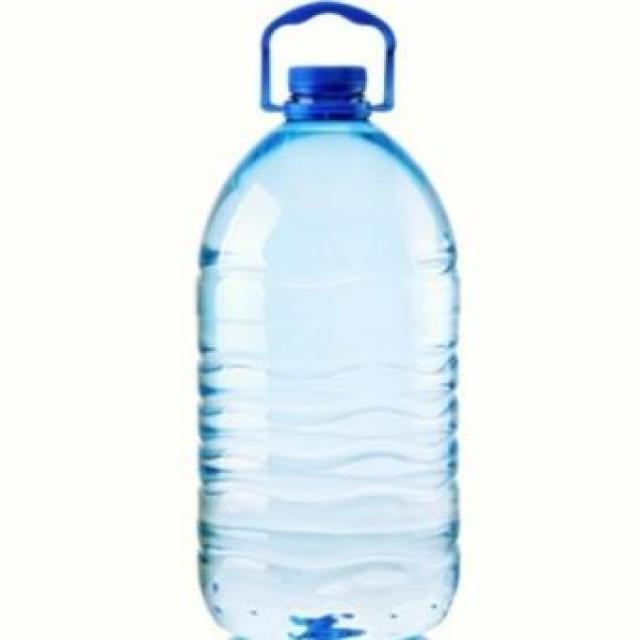bottle: (173, 31, 487, 640)
